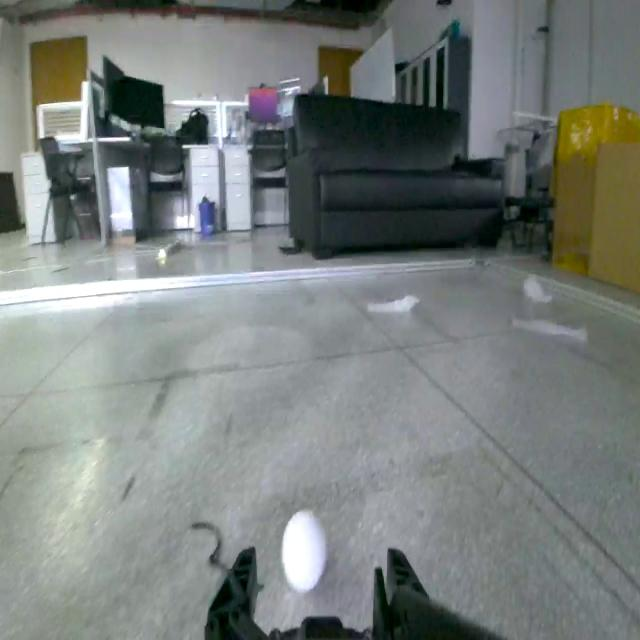ball1: (278, 504, 331, 596)
